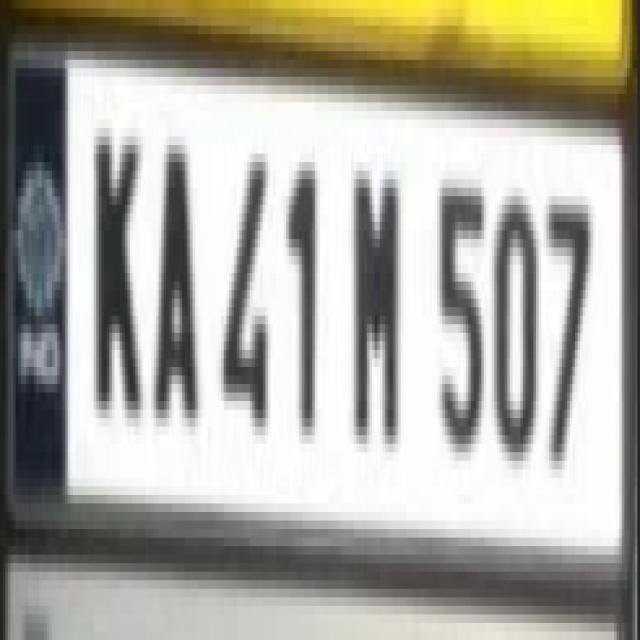0: (493, 151, 544, 486)
1: (284, 116, 327, 432)
4: (214, 113, 277, 444)
5: (433, 144, 491, 481)
7: (542, 163, 599, 502)
A: (150, 101, 204, 439)
K: (89, 104, 148, 431)
M: (343, 109, 413, 474)
